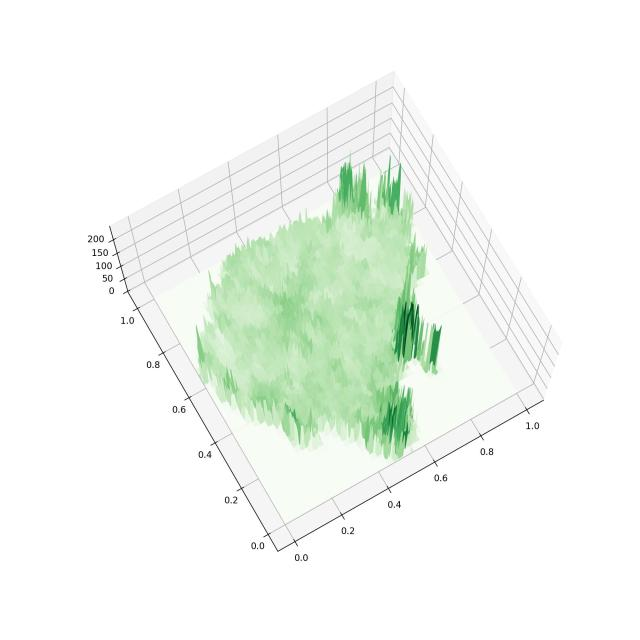spruce: (50, 39, 583, 590)
